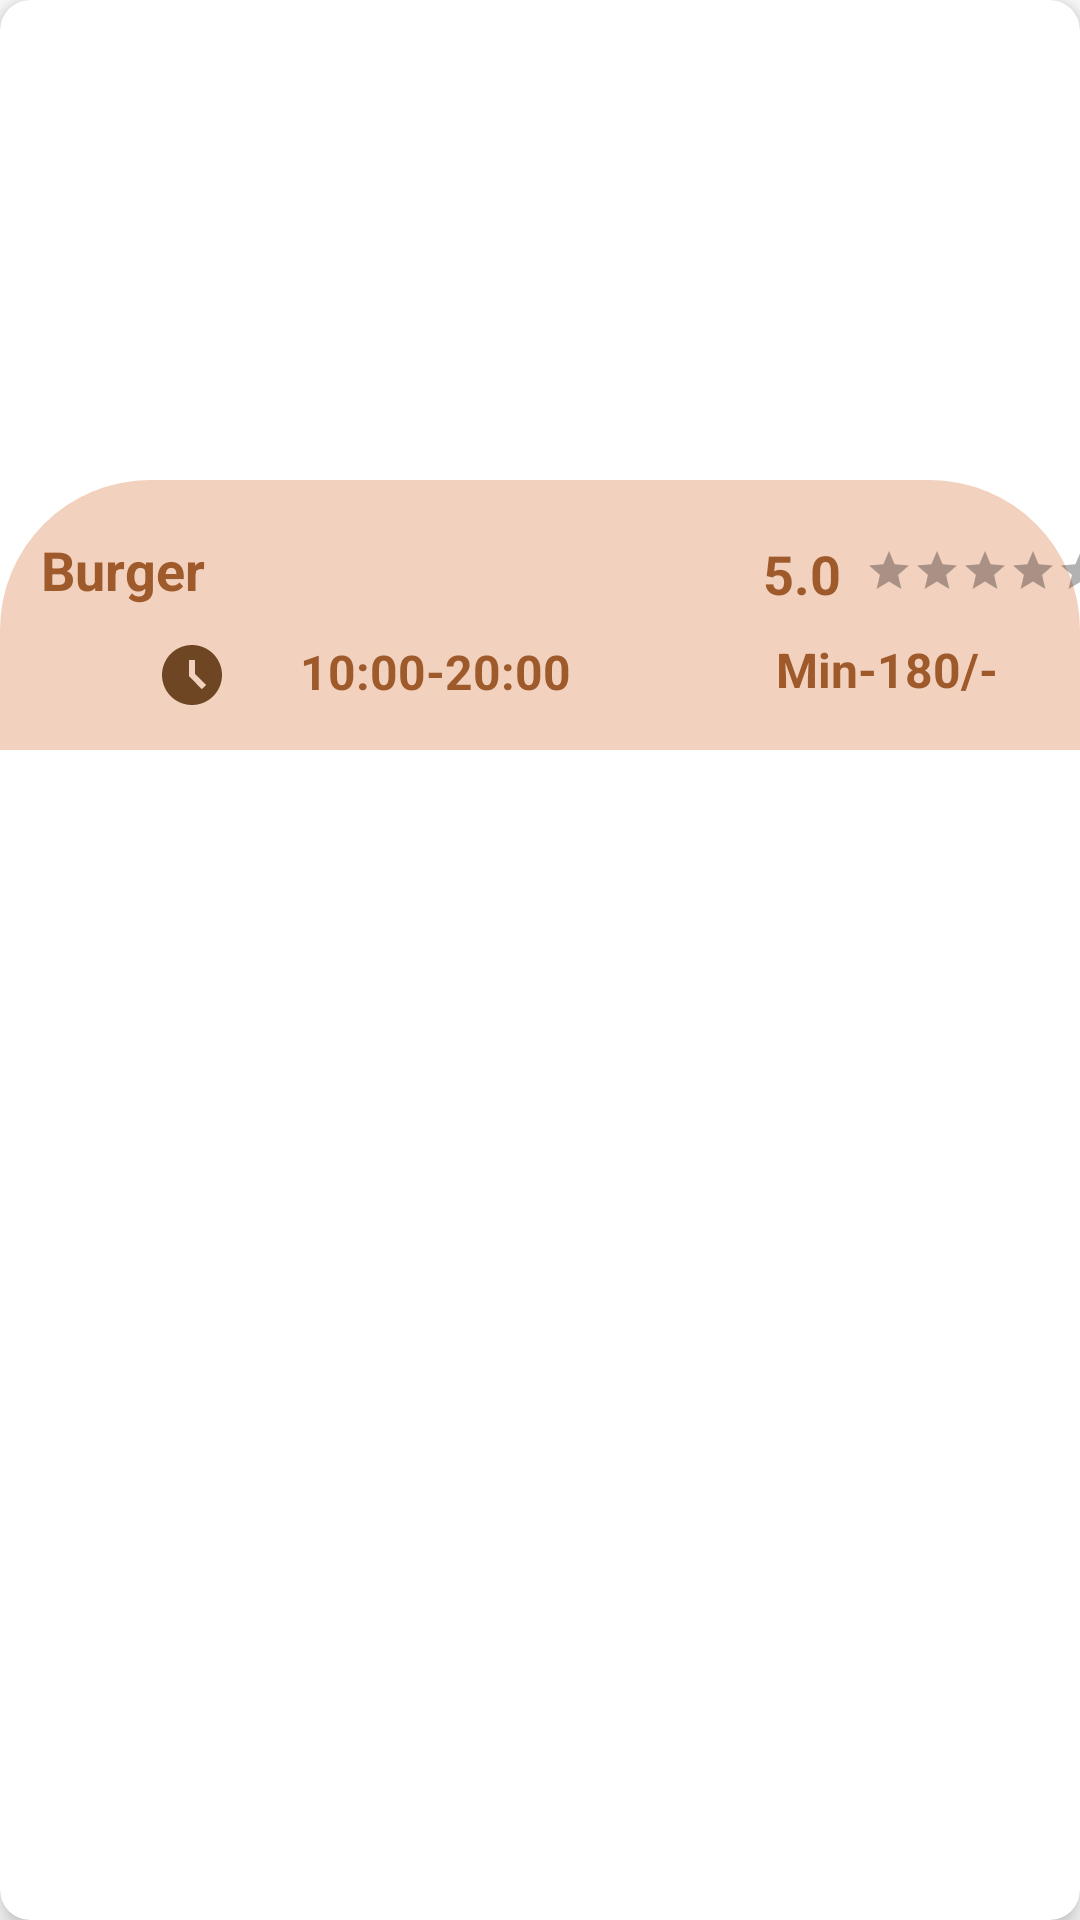

Named icons in this screenshot (1080*1920) and their bounding boxes, (x1, y1, x2, y2):
access time: (162, 645, 222, 705)
